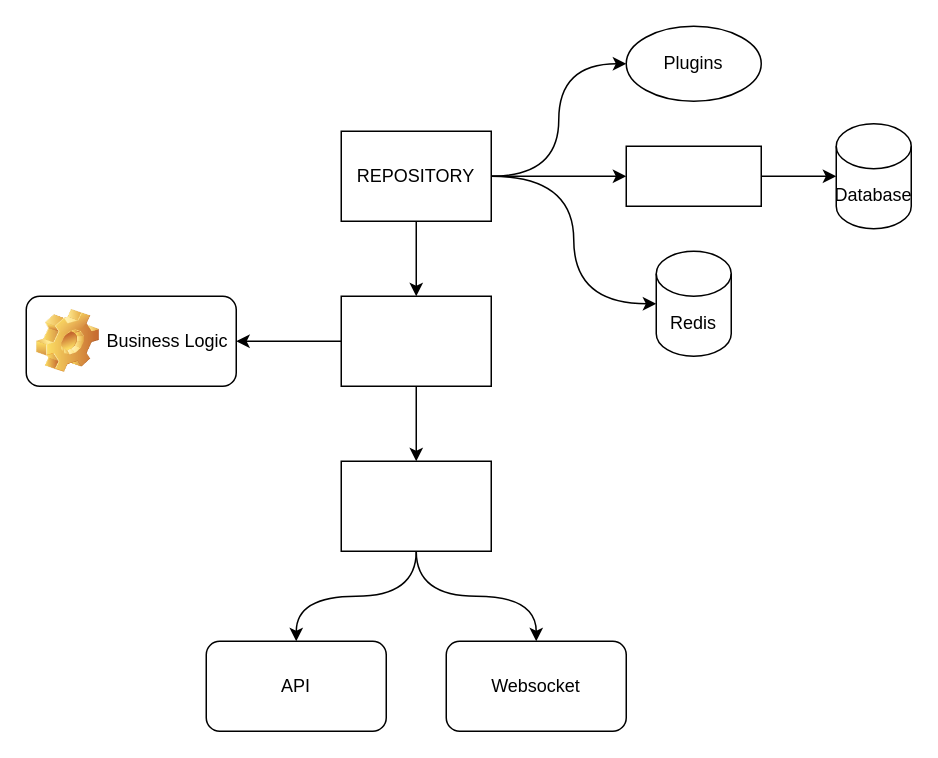
Some shapes in this 938 by 758 pixel diagram are drawn without their labels. The centre of each missing label's shape, as x and y in pixels:
ENTITY: the point at 693,175
ROUTER CONTROLLER: the point at 415,505
SERVICE: the point at 415,340
